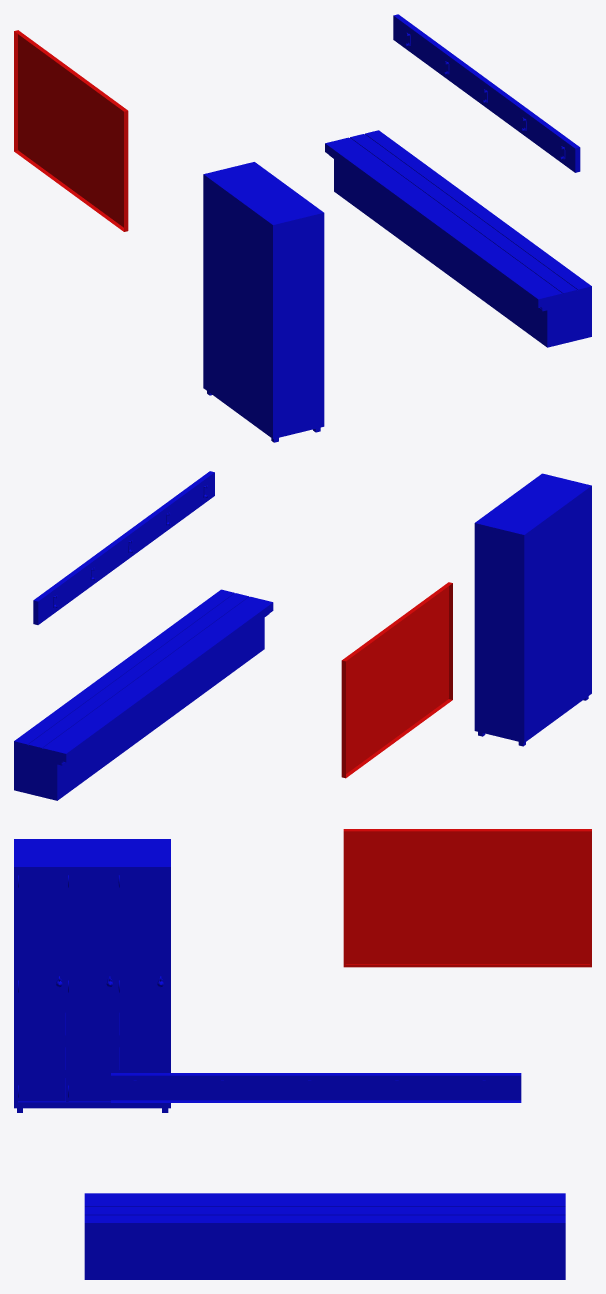
The model's file is LockerRoomProps.fbx.
The picture shows the model from 3 angles, top to bottom: view 1: azimuth 30°, elevation 25°; view 2: azimuth 150°, elevation 25°; view 3: azimuth 270°, elevation 25°; orthographic projection. The views are drawn at different scales.
Visible parts, largest first — view 1: Locker_01, Bench, Whiteboard, ClothingRack; view 2: Locker_01, Bench, Whiteboard, ClothingRack; view 3: Bench, Locker_01, Whiteboard, ClothingRack.
Part boxes in pixels (left/top/right/bottom): Locker_01: left=203, top=162, right=324, bottom=442; Bench: left=325, top=130, right=591, bottom=347; Whiteboard: left=14, top=30, right=128, bottom=231; ClothingRack: left=393, top=14, right=580, bottom=172; Locker_01: left=474, top=473, right=591, bottom=746; Bench: left=14, top=589, right=273, bottom=800; Whiteboard: left=341, top=582, right=452, bottom=778; ClothingRack: left=33, top=471, right=214, bottom=624; Bench: left=84, top=1193, right=565, bottom=1279; Locker_01: left=14, top=839, right=170, bottom=1112; Whiteboard: left=343, top=829, right=591, bottom=967; ClothingRack: left=111, top=1073, right=521, bottom=1102.
Bounding box in the file's own units: 345 × 212 × 434.
